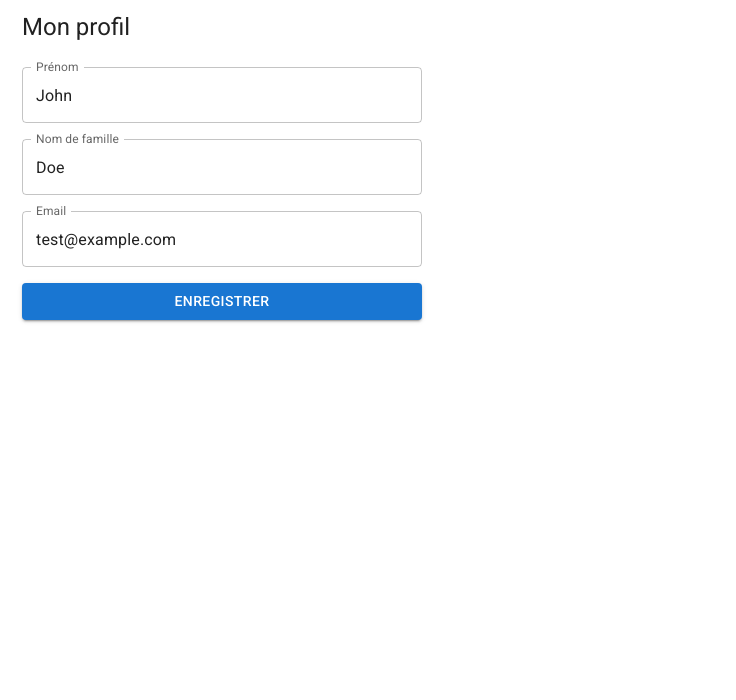
it: UserProfile › devrait afficher un message de succès après une mise à jour réussie
Replace the text in the field labelled "Prénom" with "Jane": coordinates (222, 95) [22, 67, 422, 123]
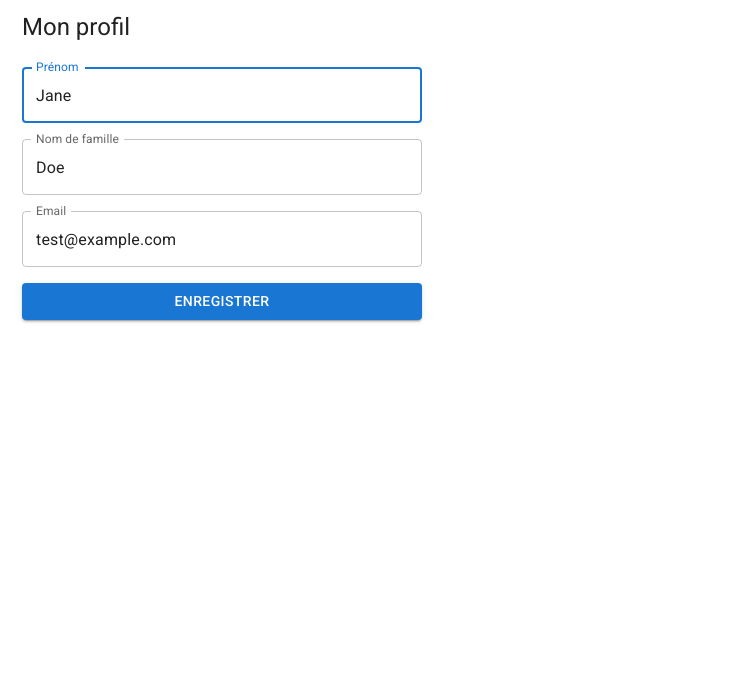
Click the button "Enregistrer": coordinates (222, 301) [22, 283, 422, 320]
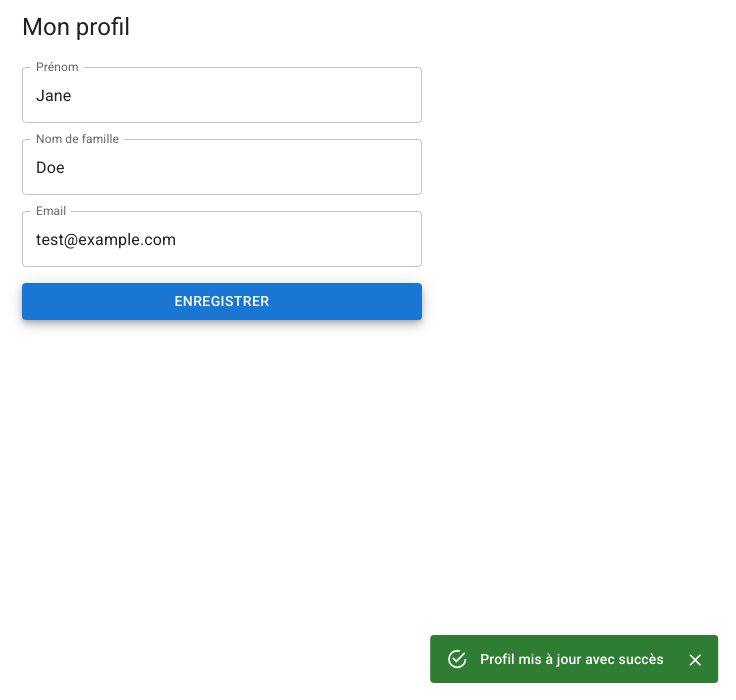
Now the text "Profil mis à jour avec succès" is shown, box [480, 651, 664, 667]
